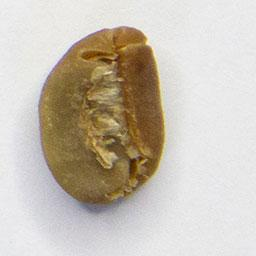defect: (36, 23, 167, 207)
